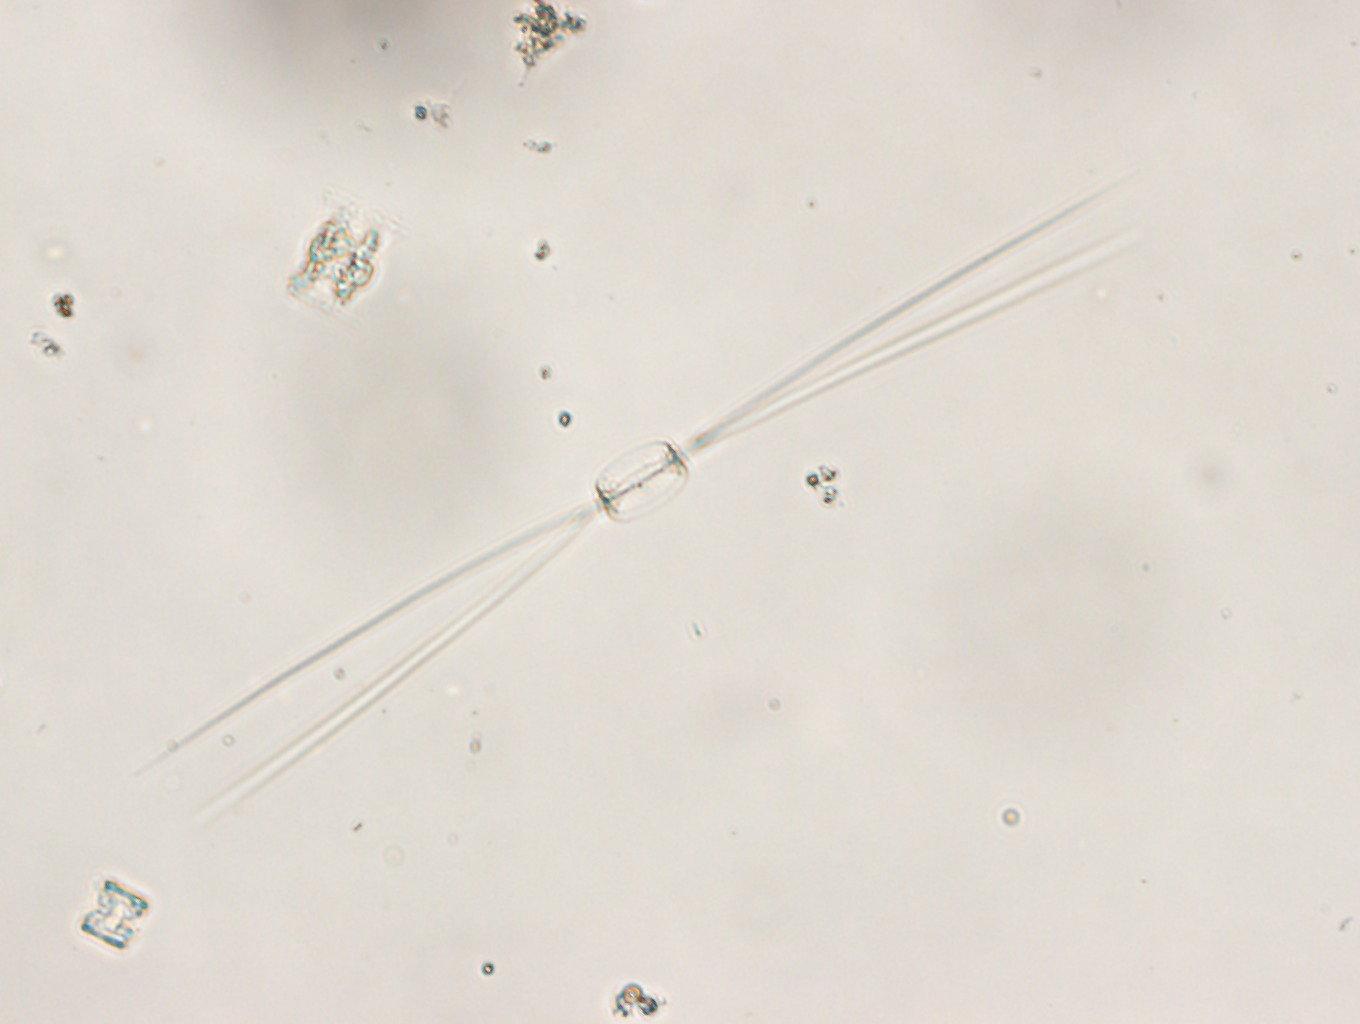chaetoceros: (126, 170, 1162, 825)
